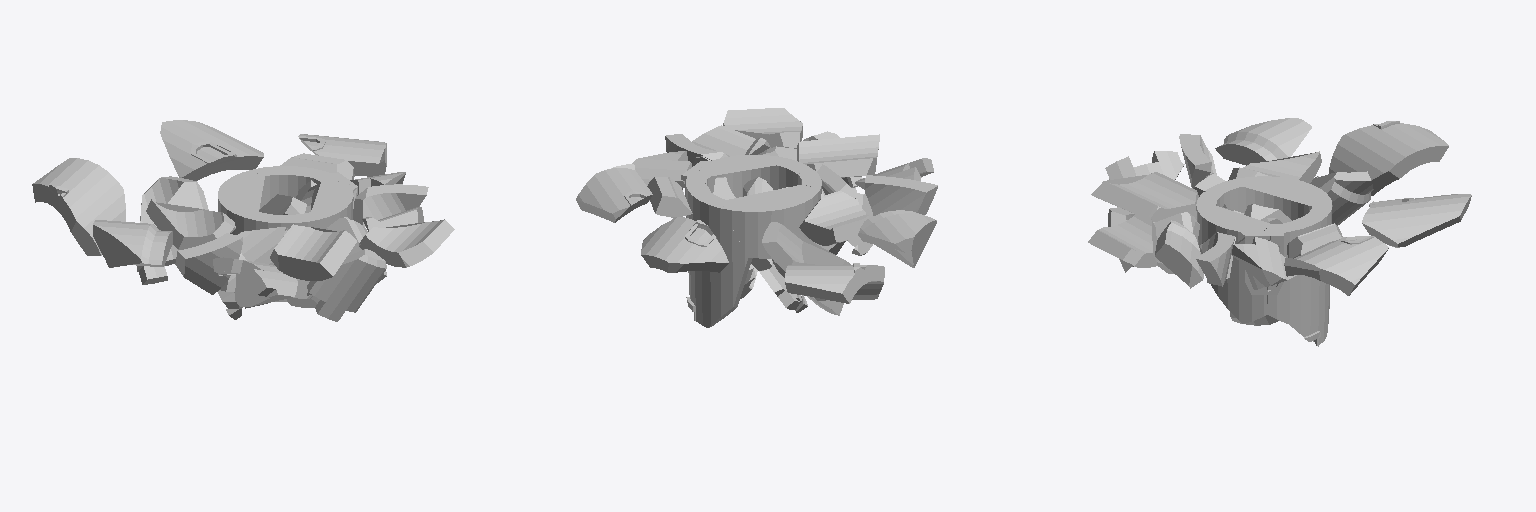
The model's file is destruction_tower_000075.obj.
The picture shows the model from 3 angles: view 1: azimuth 30°, elevation 25°; view 2: azimuth 150°, elevation 25°; view 3: azimuth 270°, elevation 25°; orthographic projection.
Visible parts, largest first — view 1: tower.001_cell.003_Mesh.003, tower.001_cell.025_Mesh.025, tower.001_cell.024_Mesh.024, tower.001_cell.011_Mesh.011, tower.001_cell.005_Mesh.005, tower.001_cell.021_Mesh.021, tower.001_cell.006_Mesh.006, tower.001_cell.009_Mesh.009, tower.001_cell.007_Mesh.007, tower.001_cell.002_Mesh.002, tower.001_cell.012_Mesh.012, tower.001_cell.010_Mesh.010 (+10 smaller); view 2: tower.001_cell.017_Mesh.017, tower.001_cell.015_Mesh.015, tower.001_cell.025_Mesh.025, tower.001_cell.003_Mesh.003, tower.001_cell.012_Mesh.012, tower.001_cell.005_Mesh.005, tower.001_cell.024_Mesh.024, tower.001_cell.028_Mesh.028, tower.001_cell.009_Mesh.009, tower.001_cell.007_Mesh.007, tower.001_cell.021_Mesh.021, tower.001_cell.002_Mesh.002 (+8 smaller); view 3: tower.001_cell.003_Mesh.003, tower.001_cell.025_Mesh.025, tower.001_cell.012_Mesh.012, tower.001_cell.024_Mesh.024, tower.001_cell.017_Mesh.017, tower.001_cell.005_Mesh.005, tower.001_cell.015_Mesh.015, tower.001_cell.021_Mesh.021, tower.001_cell.020_Mesh.020, tower.001_cell_Mesh, tower.001_cell.028_Mesh.028, tower.001_cell.007_Mesh.007 (+9 smaller).
Part boxes in pixels (bbox=[...]): tower.001_cell.003_Mesh.003: bbox=[32, 158, 125, 255]; tower.001_cell.025_Mesh.025: bbox=[160, 120, 263, 180]; tower.001_cell.024_Mesh.024: bbox=[270, 224, 356, 280]; tower.001_cell.011_Mesh.011: bbox=[307, 249, 386, 321]; tower.001_cell.005_Mesh.005: bbox=[93, 220, 172, 267]; tower.001_cell.021_Mesh.021: bbox=[359, 219, 454, 267]; tower.001_cell.006_Mesh.006: bbox=[213, 257, 297, 306]; tower.001_cell.009_Mesh.009: bbox=[146, 199, 235, 249]; tower.001_cell.007_Mesh.007: bbox=[137, 176, 208, 284]; tower.001_cell.002_Mesh.002: bbox=[175, 233, 242, 294]; tower.001_cell.012_Mesh.012: bbox=[298, 134, 386, 176]; tower.001_cell.010_Mesh.010: bbox=[353, 184, 428, 226]; tower.001_cell.017_Mesh.017: bbox=[686, 179, 752, 327]; tower.001_cell.015_Mesh.015: bbox=[723, 185, 819, 258]; tower.001_cell.025_Mesh.025: bbox=[641, 217, 728, 272]; tower.001_cell.003_Mesh.003: bbox=[785, 263, 884, 303]; tower.001_cell.012_Mesh.012: bbox=[576, 164, 652, 222]; tower.001_cell.005_Mesh.005: bbox=[858, 210, 936, 267]; tower.001_cell.024_Mesh.024: bbox=[797, 134, 879, 177]; tower.001_cell.028_Mesh.028: bbox=[701, 155, 810, 197]; tower.001_cell.009_Mesh.009: bbox=[799, 191, 868, 245]; tower.001_cell.007_Mesh.007: bbox=[762, 222, 850, 315]; tower.001_cell.021_Mesh.021: bbox=[723, 108, 802, 148]; tower.001_cell.002_Mesh.002: bbox=[865, 175, 937, 215]; tower.001_cell.003_Mesh.003: bbox=[1329, 121, 1448, 195]; tower.001_cell.025_Mesh.025: bbox=[1362, 194, 1471, 247]; tower.001_cell.012_Mesh.012: bbox=[1284, 236, 1388, 295]; tower.001_cell.024_Mesh.024: bbox=[1091, 172, 1198, 221]; tower.001_cell.017_Mesh.017: bbox=[1289, 204, 1332, 346]; tower.001_cell.005_Mesh.005: bbox=[1215, 118, 1311, 165]; tower.001_cell.015_Mesh.015: bbox=[1243, 176, 1331, 220]; tower.001_cell.021_Mesh.021: bbox=[1088, 212, 1157, 267]; tower.001_cell.020_Mesh.020: bbox=[1211, 231, 1269, 323]; tower.001_cell_Mesh: bbox=[1155, 220, 1203, 288]; tower.001_cell.028_Mesh.028: bbox=[1196, 192, 1270, 253]; tower.001_cell.007_Mesh.007: bbox=[1310, 171, 1373, 225].
Bounding box in the file's own units: 112 × 44.61 × 121.